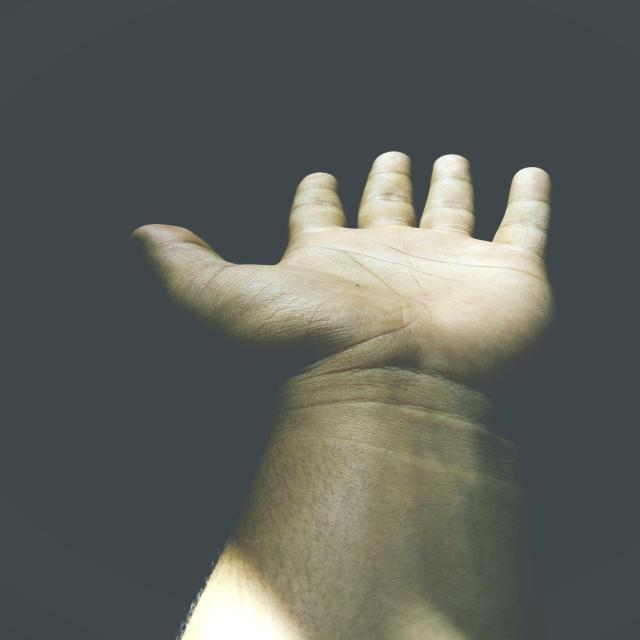piel: (131, 147, 565, 640)
